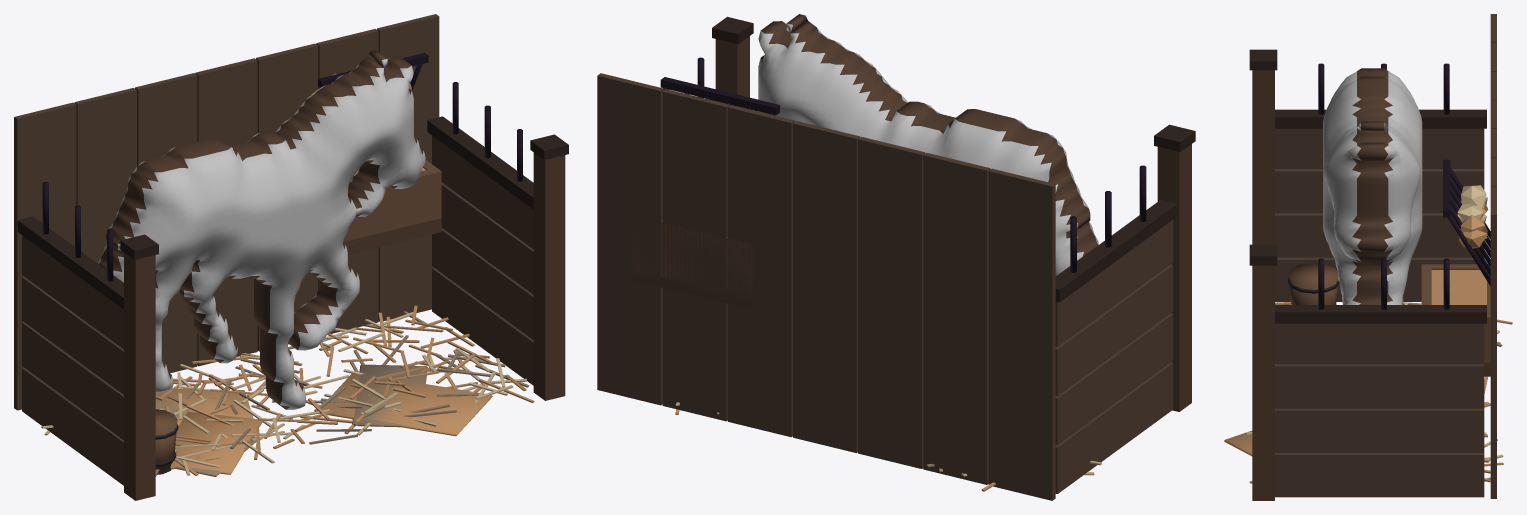
The model's file is stall_horse.glb.
3 renders of one model, left to right at view 1: azimuth 30°, elevation 25°; view 2: azimuth 150°, elevation 25°; view 3: azimuth 270°, elevation 25°, orthographic. The views are drawn at different scales.
Parts seen in each view (by area): view 1: stall_horse; view 2: stall_horse; view 3: stall_horse.
Boxes of the visible parts, x1,y1,x2,y2 form: stall_horse: (14,14,568,500); stall_horse: (597,14,1195,500); stall_horse: (1224,14,1512,500).
Bounding box in the file's own units: 1.96 × 1.41 × 1.15.
